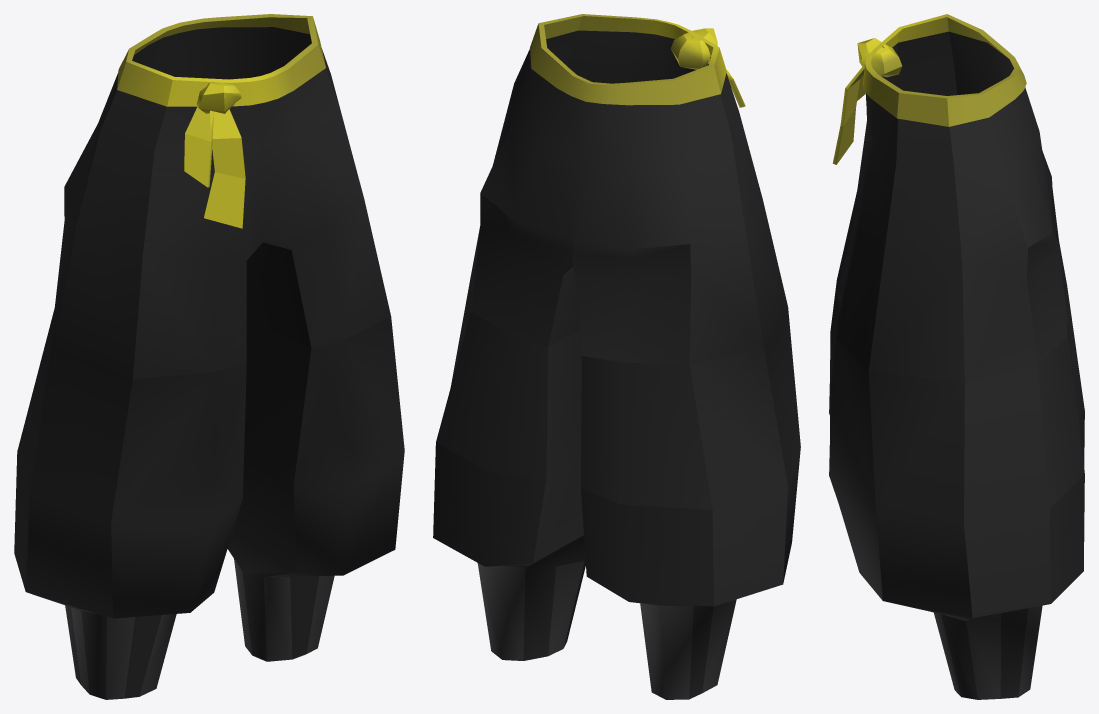
The model's file is OutfitC_Bottom.glb.
3 views of the same model, side by side, from view 1: azimuth 30°, elevation 25°; view 2: azimuth 150°, elevation 25°; view 3: azimuth 270°, elevation 25° (orthographic). The views are drawn at different scales.
Visible parts, largest first — view 1: OutfitC_Bottom; view 2: OutfitC_Bottom; view 3: OutfitC_Bottom.
Boxes of the visible parts, bbox=[...] form: OutfitC_Bottom: bbox=[14, 14, 404, 699]; OutfitC_Bottom: bbox=[433, 14, 800, 699]; OutfitC_Bottom: bbox=[829, 14, 1084, 699].
Size of the model in its own units: 1.32 by 2.23 by 0.8717.
